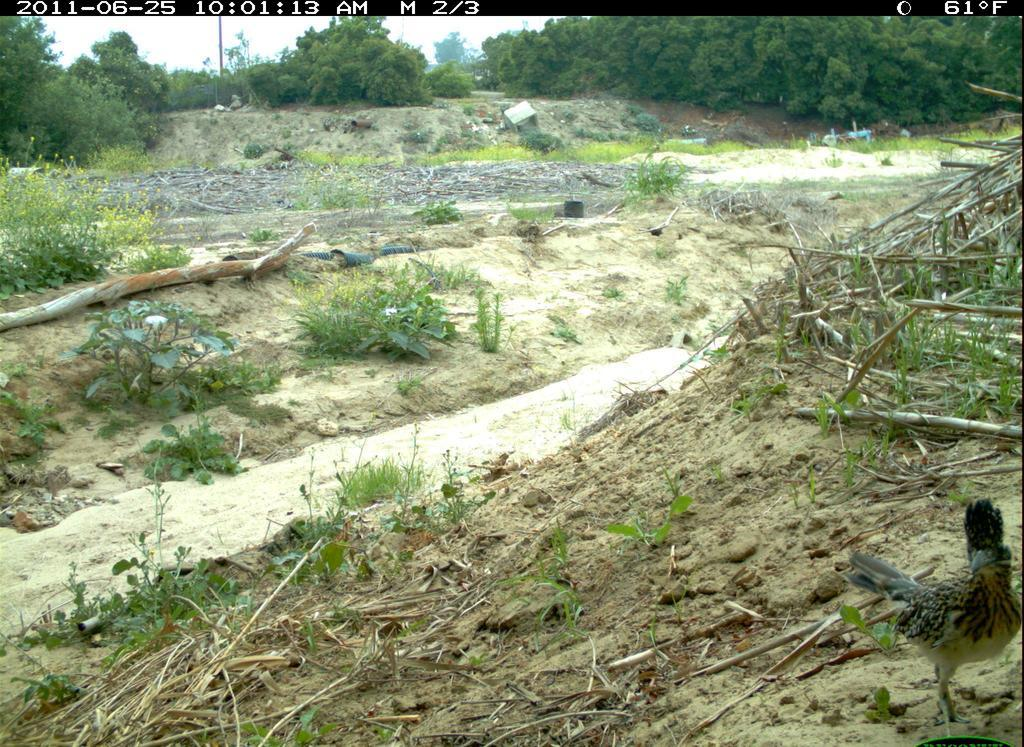bird: (847, 497, 1021, 729)
